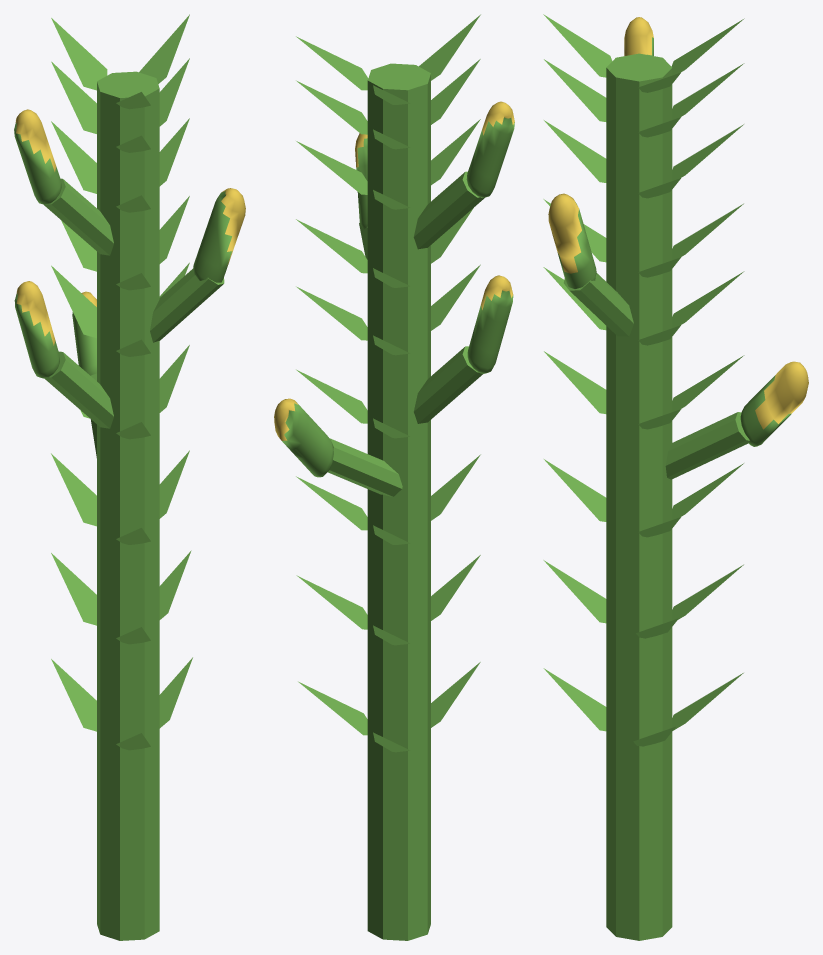
Rendered from Corn_ready.glb.
3 renders of one model, left to right at view 1: azimuth 30°, elevation 25°; view 2: azimuth 150°, elevation 25°; view 3: azimuth 270°, elevation 25°, orthographic.
Visible parts, largest first — view 1: Cylinder.023, Cylinder.017, Cylinder.015, Cylinder.014, Cylinder.019, Cylinder.022, Cylinder.020, Plane.055, Plane.068, Plane.058, Plane.061, Plane.066 (+12 smaller); view 2: Cylinder.023, Cylinder.015, Cylinder.016, Cylinder.014, Cylinder.022, Cylinder.019, Cylinder.018, Plane.056, Plane.054, Plane.063, Plane.057, Plane.077 (+13 smaller); view 3: Cylinder.023, Cylinder.016, Cylinder.017, Cylinder.018, Cylinder.020, Plane.056, Plane.070, Plane.071, Plane.059, Plane.062, Plane.072, Plane.069 (+10 smaller).
Boxes of the visible parts, box(x1,y1,x2,y2) form: Cylinder.023: box(97, 71, 159, 940); Cylinder.017: box(193, 188, 245, 282); Cylinder.015: box(14, 281, 59, 378); Cylinder.014: box(14, 109, 61, 204); Cylinder.019: box(45, 351, 113, 428); Cylinder.022: box(44, 178, 113, 255); Cylinder.020: box(150, 268, 224, 342); Plane.055: box(51, 18, 107, 90); Plane.068: box(51, 453, 96, 526); Plane.058: box(51, 61, 96, 133); Plane.061: box(51, 121, 96, 193); Plane.066: box(51, 659, 96, 731); Cylinder.023: box(367, 63, 430, 940); Cylinder.015: box(467, 275, 513, 373); Cylinder.016: box(274, 398, 333, 477); Cylinder.014: box(466, 101, 514, 197); Cylinder.022: box(413, 171, 484, 249); Cylinder.019: box(413, 346, 482, 423); Cylinder.018: box(328, 438, 402, 496); Plane.056: box(419, 14, 480, 80); Plane.054: box(296, 36, 368, 90); Plane.063: box(296, 476, 367, 530); Plane.057: box(296, 80, 367, 134); Plane.077: box(296, 286, 367, 340); Cylinder.023: box(606, 53, 672, 940); Cylinder.016: box(740, 361, 808, 446); Cylinder.017: box(548, 193, 596, 288); Cylinder.018: box(665, 412, 749, 479); Cylinder.020: box(563, 273, 633, 336); Plane.056: box(543, 14, 612, 77); Plane.070: box(543, 560, 606, 623); Plane.071: box(543, 668, 606, 731); Plane.059: box(544, 59, 606, 121); Plane.062: box(544, 120, 606, 182); Plane.072: box(544, 351, 606, 413); Plane.069: box(544, 459, 606, 521).
Bounding box in the file's own units: 0.4179 × 1.79 × 0.4824.
